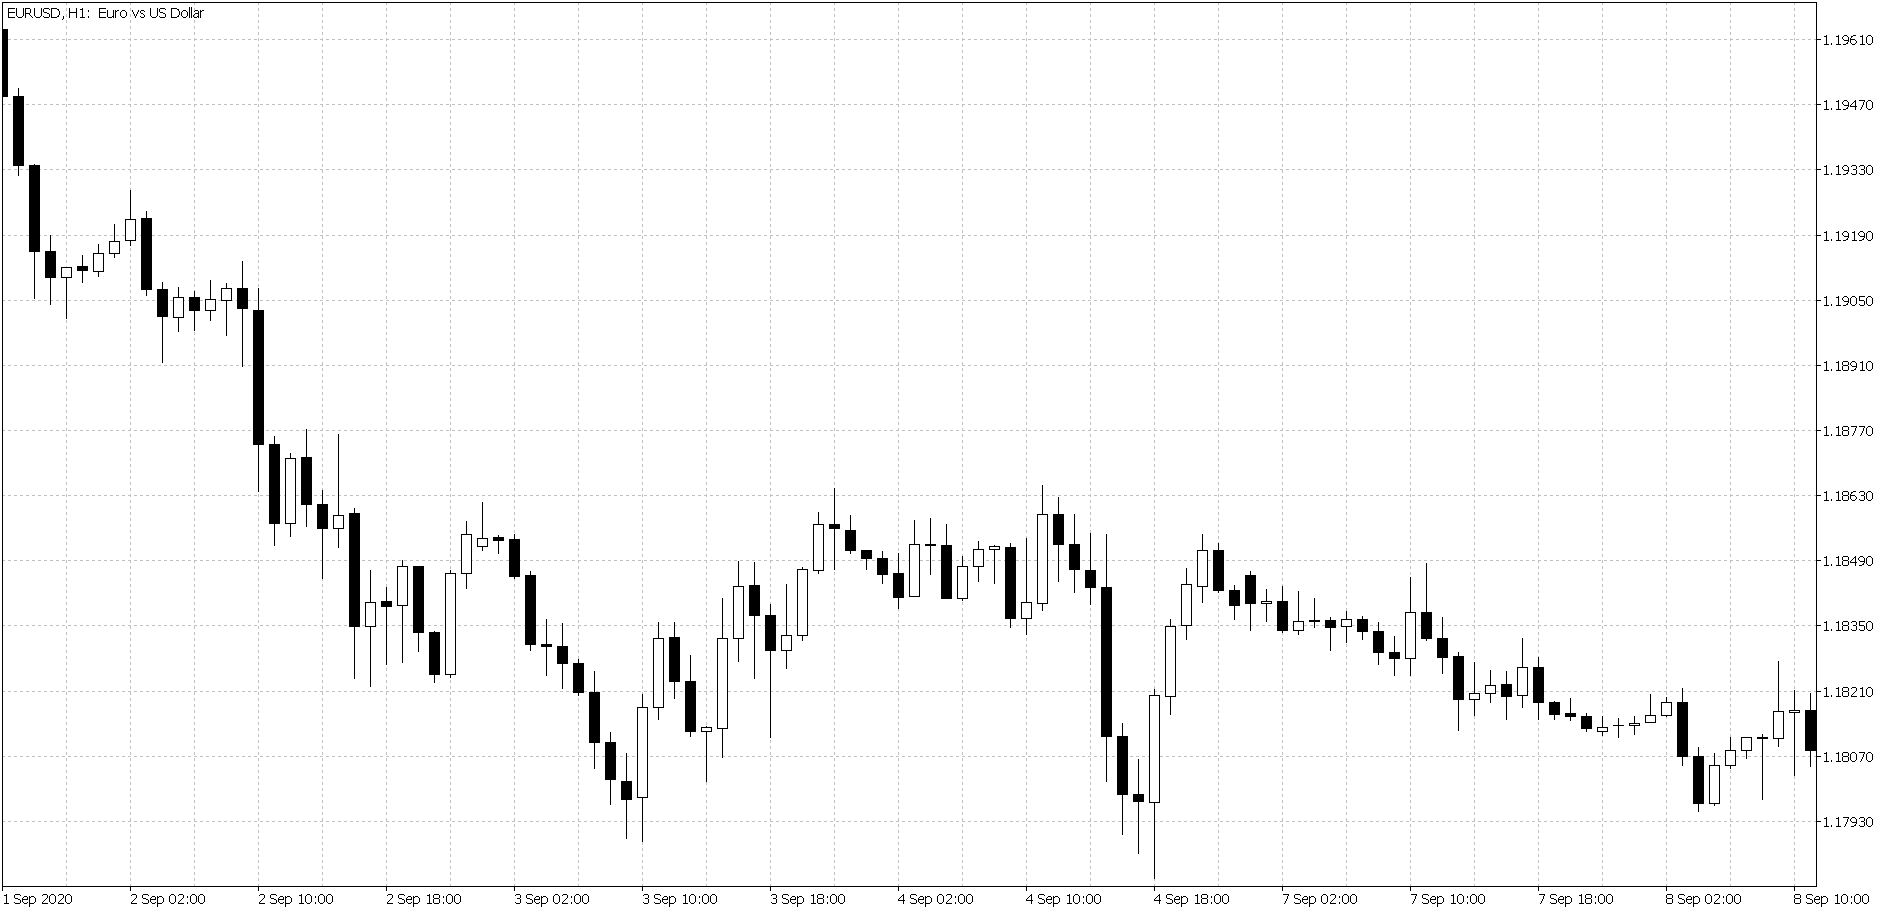3blackcrows: (1051, 484, 1099, 615)
bearishEngulfing: (121, 184, 156, 300)
bullishEngulfing: (428, 566, 458, 690)
eveningStar: (812, 493, 858, 587)
morningStar: (682, 598, 730, 787), (1115, 687, 1163, 851)
